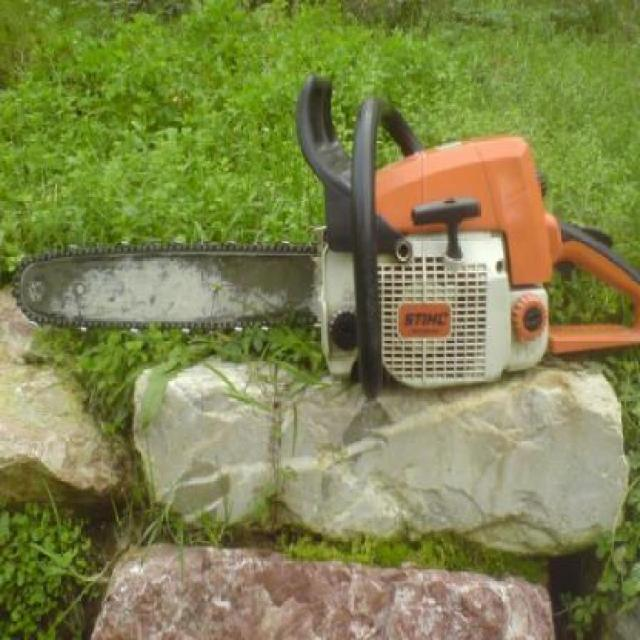Chainsaw: (17, 66, 634, 408)
